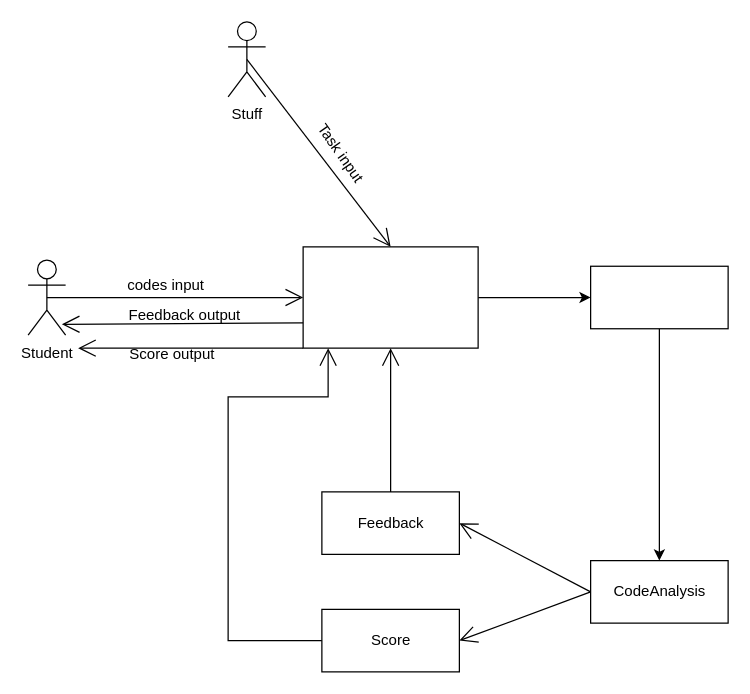
Image size: 750x694. Some labels were removed from this diagram. Each missing label, with the centre of its shape:
"<<interface>> Python codes checker" belongs at (x=390, y=297).
"System Controller" belongs at (x=658, y=297).
